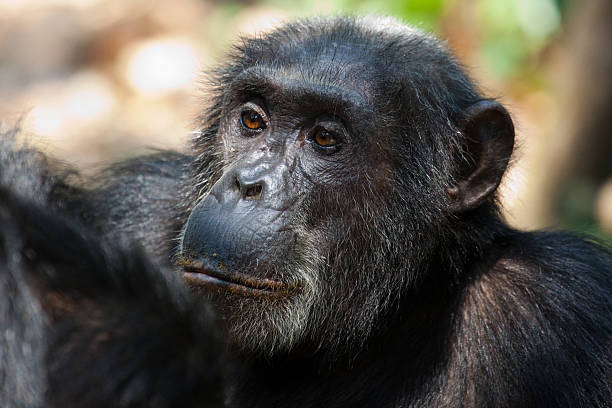chimpanzee: (149, 10, 527, 380)
